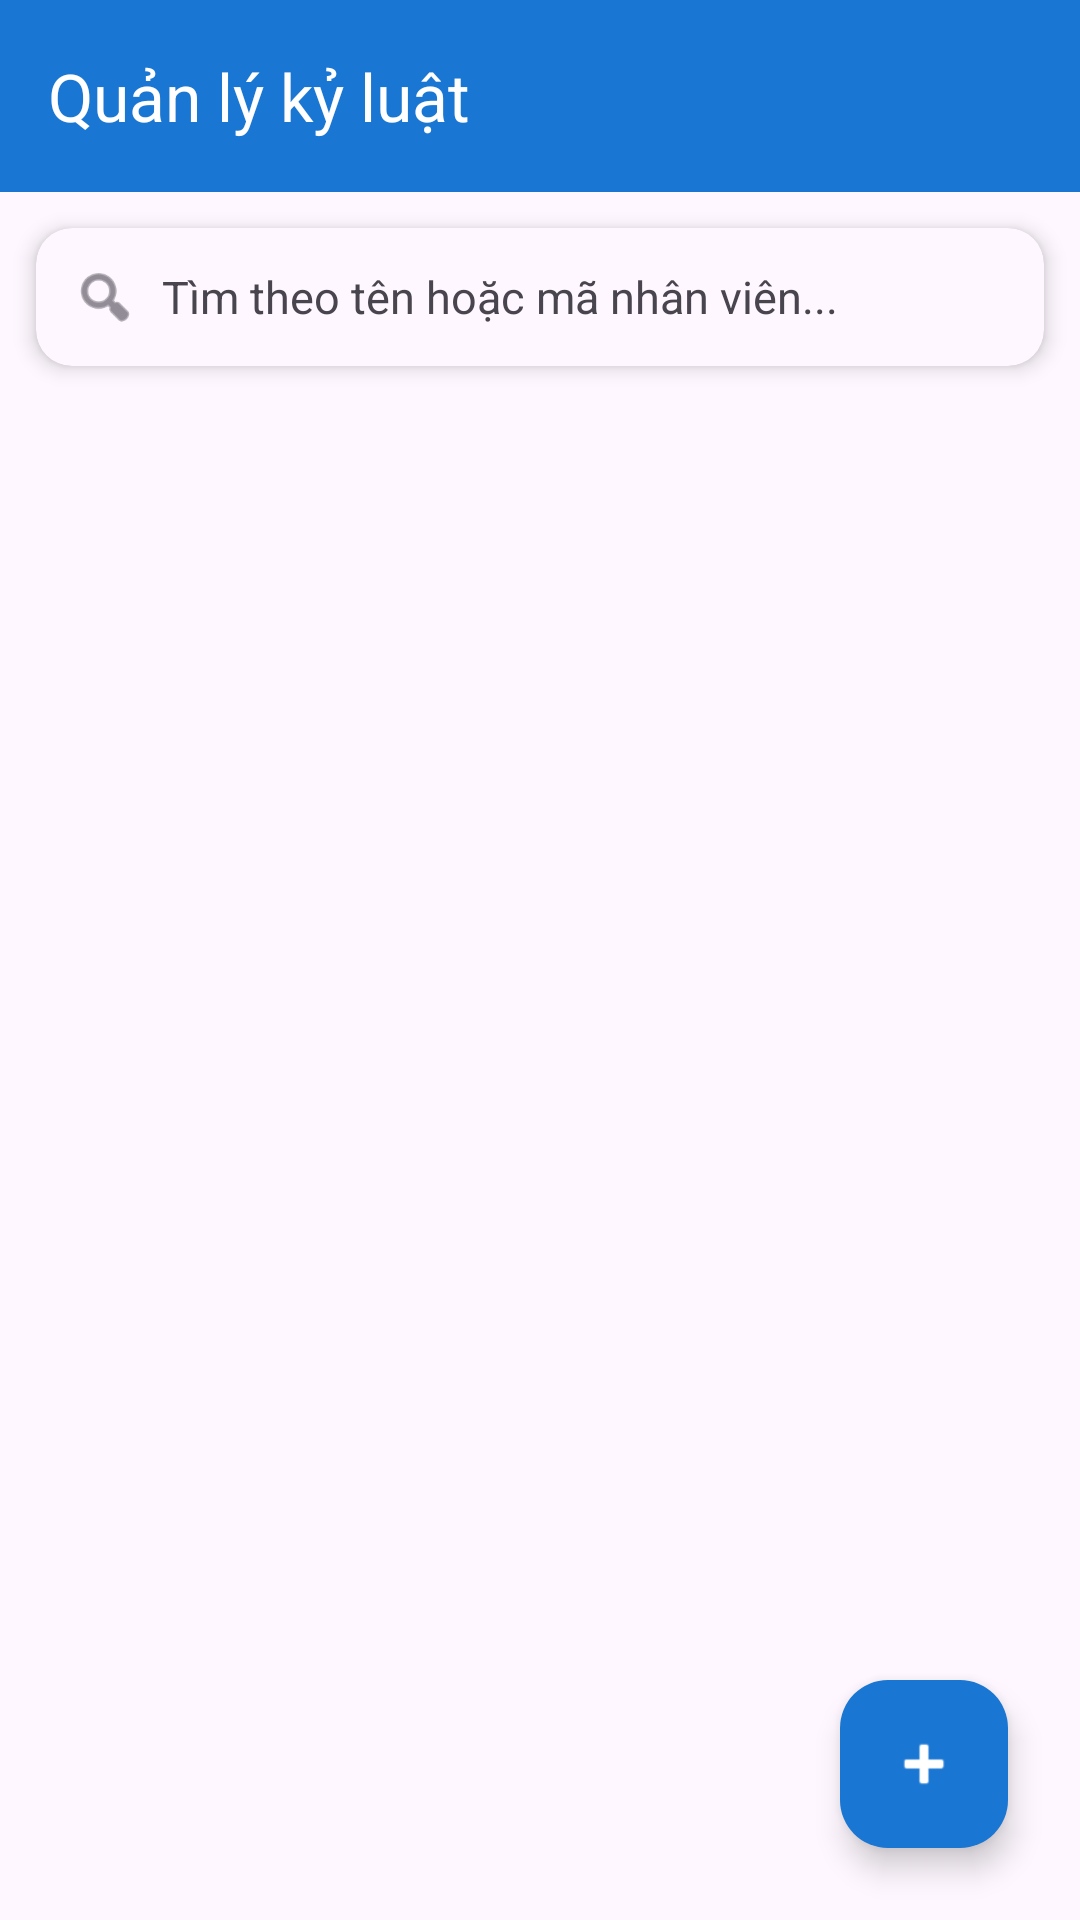

Icons on this 1080px x 1920px Android screen, each with its box as (x1, y1, x2, y2):
add: (840, 1680, 1008, 1848)
search: (81, 273, 129, 322)
